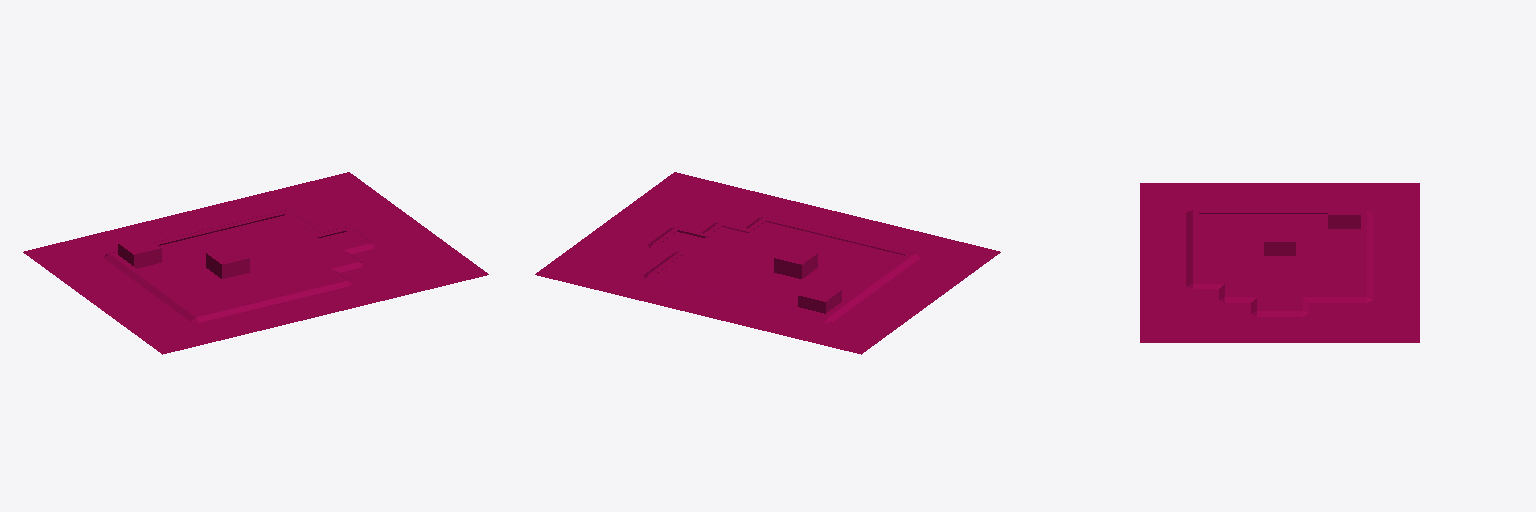
File: puzzleTestCurvo.obj
3 views of the same model, side by side, from view 1: azimuth 30°, elevation 25°; view 2: azimuth 150°, elevation 25°; view 3: azimuth 270°, elevation 25° (orthographic).
Visible parts, largest first — view 1: Cube.001_Cube.003; view 2: Cube.001_Cube.003; view 3: Cube.001_Cube.003.
Part boxes in pixels (left/top/right/bottom): Cube.001_Cube.003: left=23, top=172, right=488, bottom=354; Cube.001_Cube.003: left=535, top=172, right=1000, bottom=354; Cube.001_Cube.003: left=1140, top=183, right=1419, bottom=342.
Size of the model in its own units: 58.5 by 2.5 by 43.5.